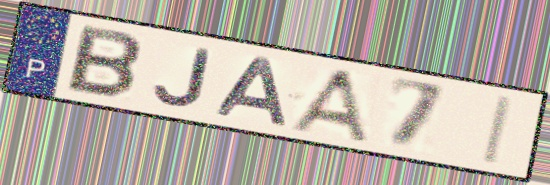7: (387, 74, 447, 151)
A: (283, 66, 372, 146), (213, 55, 292, 130)
B: (62, 22, 145, 102)
I: (479, 94, 518, 169)
J: (151, 45, 215, 109)
